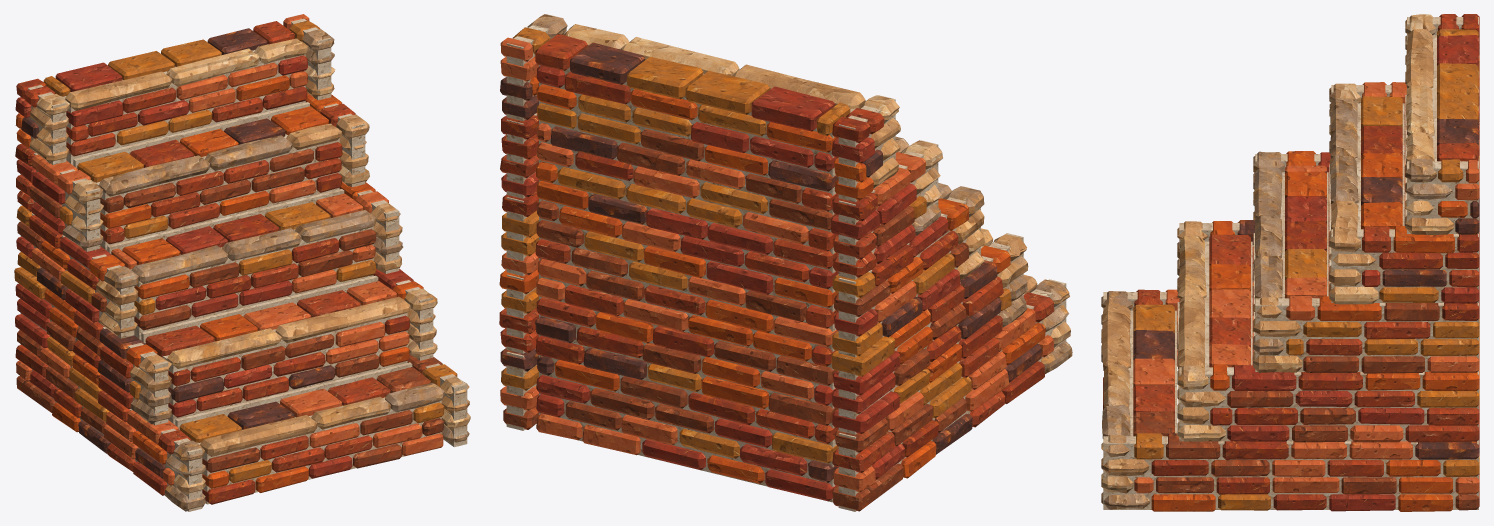
Rendered from stairs__clay_brick.glb.
3 views of the same model, side by side, from view 1: azimuth 30°, elevation 25°; view 2: azimuth 150°, elevation 25°; view 3: azimuth 270°, elevation 25° (orthographic). The views are drawn at different scales.
Visible parts, largest first — view 1: model; view 2: model; view 3: model.
Part boxes in pixels (x1,y1,x2,y2): model: (14, 14, 470, 511); model: (499, 14, 1072, 511); model: (1101, 14, 1479, 511).
Bounding box in the file's own units: 1.98 × 1.99 × 1.98.
13 materials, 13 textured.
